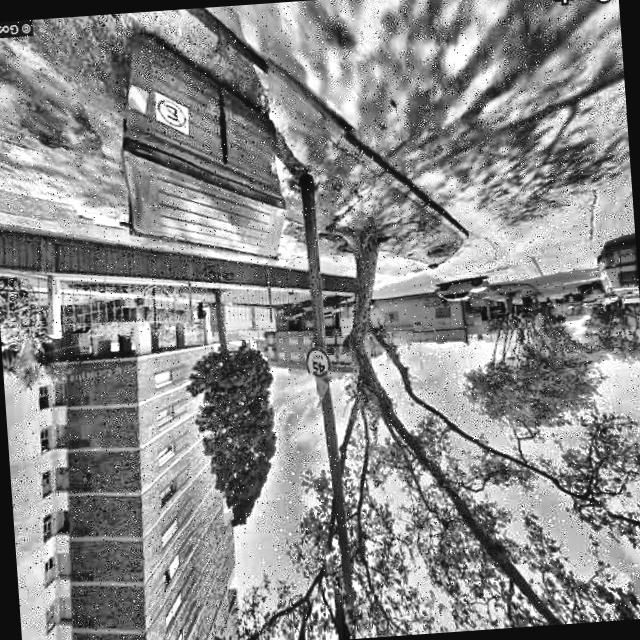Dustbin: (88, 11, 298, 285)
